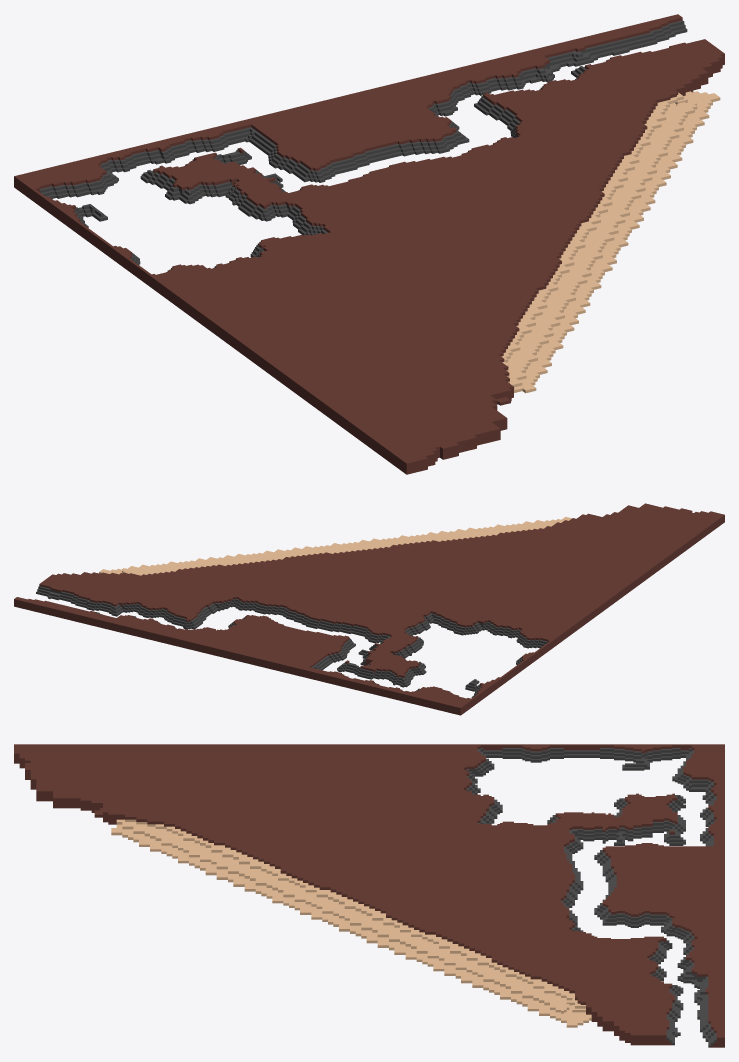
The model's file is S Map (bottom right).obj.
The picture shows the model from 3 angles, top to bottom: view 1: azimuth 30°, elevation 25°; view 2: azimuth 150°, elevation 25°; view 3: azimuth 270°, elevation 25°; orthographic projection. The views are drawn at different scales.
Bounding box in the file's own units: 25 × 0.4 × 25.6.
Materials: 1 (1 with a texture image).
